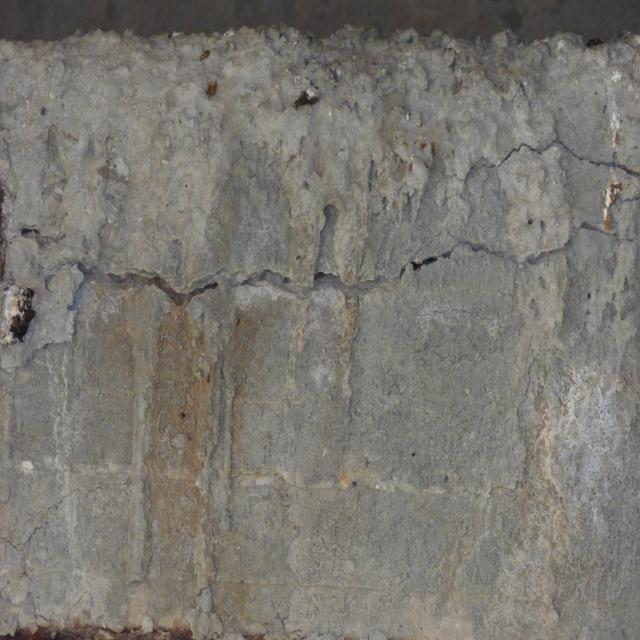corrosion: (107, 271, 266, 552), (0, 617, 288, 640), (193, 42, 222, 105)
